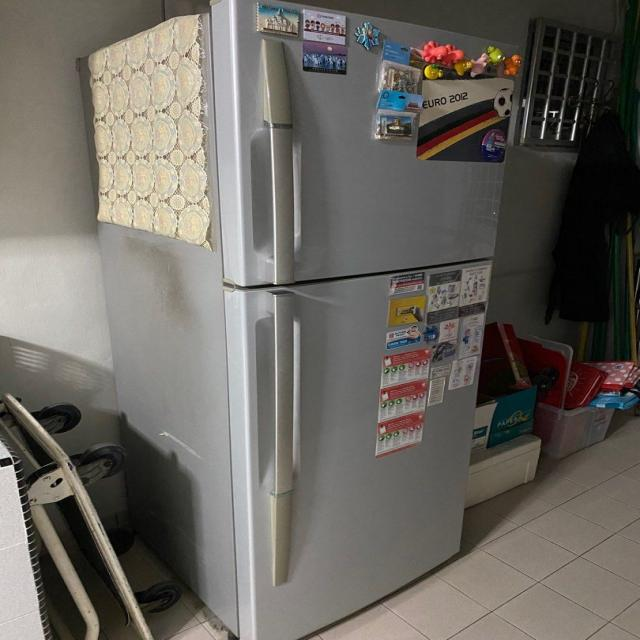refrigerator: (201, 0, 516, 640)
